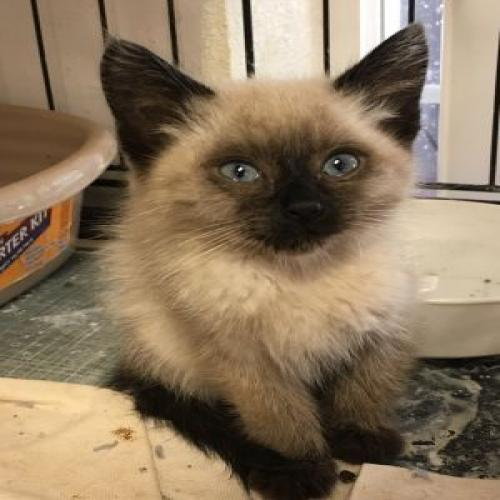siamese: (96, 24, 470, 259)
